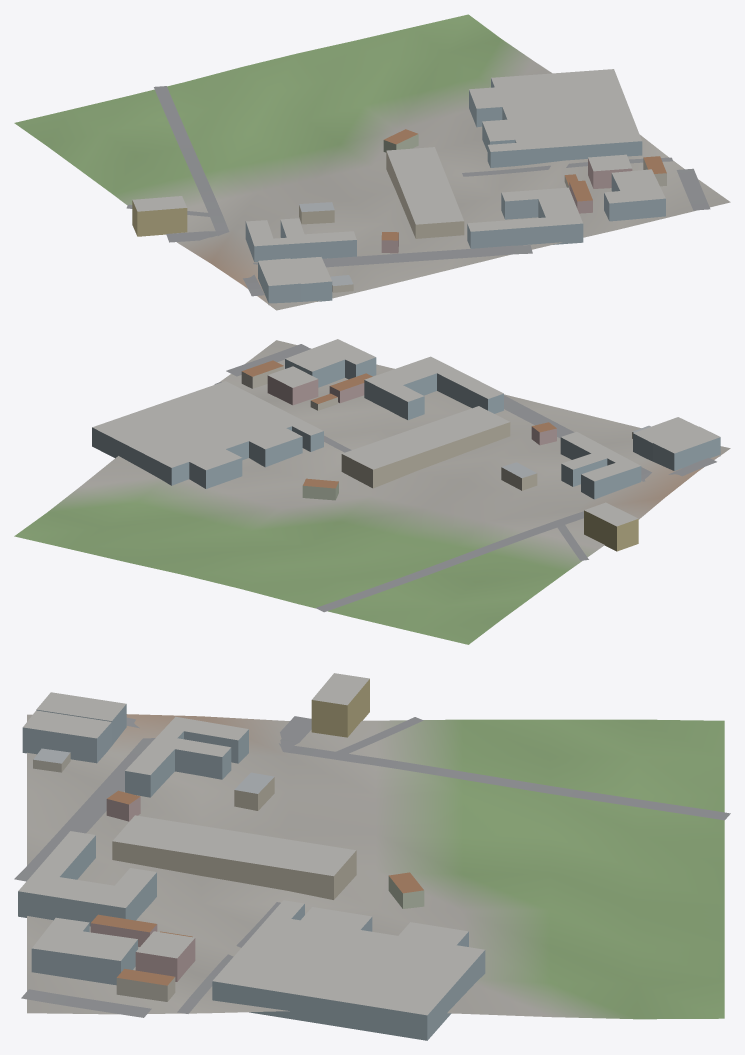
3 renders of one model, top to bottom at view 1: azimuth 30°, elevation 25°; view 2: azimuth 150°, elevation 25°; view 3: azimuth 270°, elevation 25°, orthographic. The views are drawn at different scales.
Parts seen in each view (by area): view 1: Lo; view 2: Lo; view 3: Lo.
Part boxes in pixels (x1,y1,x2,y2): Lo: (14,14,730,310); Lo: (14,339,730,644); Lo: (14,673,730,1040).
Bounding box in the file's own units: 288 × 15.68 × 263.
